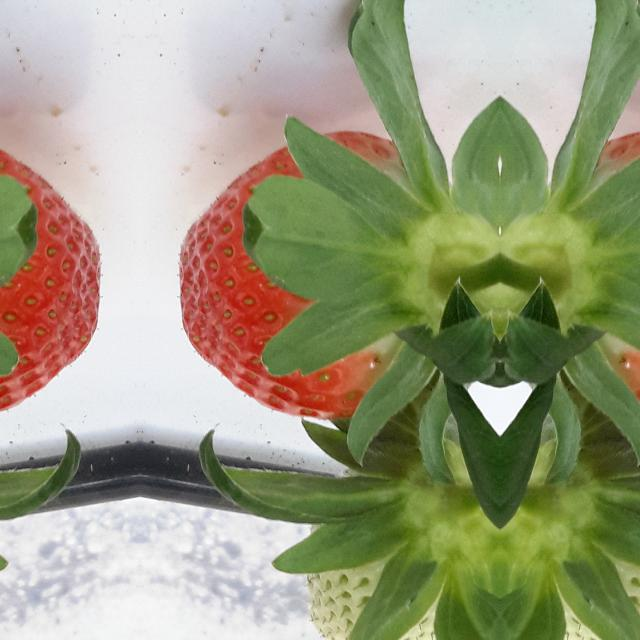Health_100: (178, 129, 416, 421), (0, 129, 101, 421), (584, 129, 640, 421)
Health_25: (296, 490, 458, 640), (542, 490, 640, 639)
